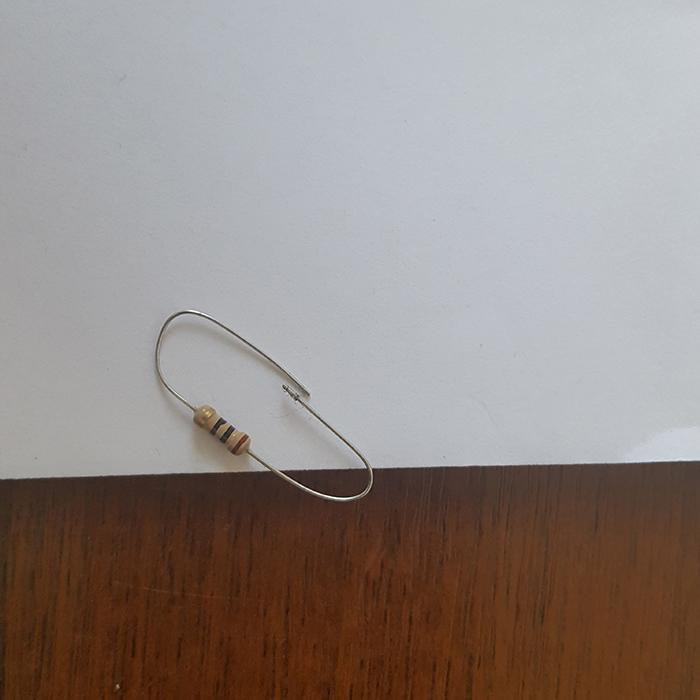resistor: (192, 403, 251, 457)
